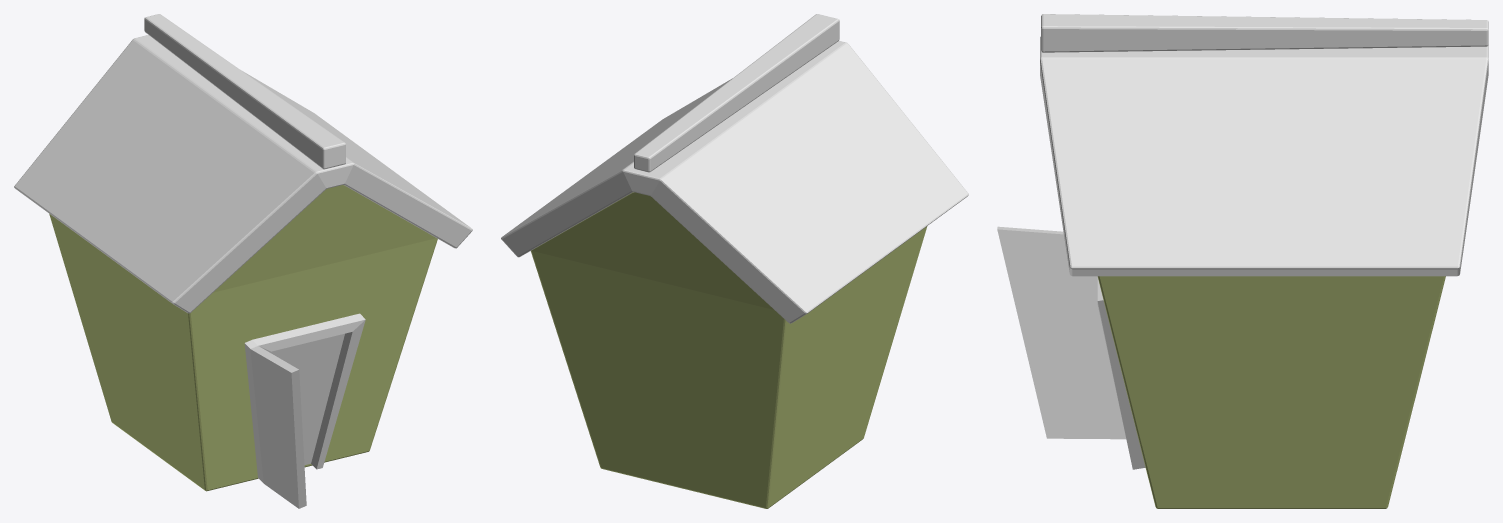
The model's file is 1house.fbx.
The picture shows the model from 3 angles, left to right: view 1: azimuth 30°, elevation 25°; view 2: azimuth 150°, elevation 25°; view 3: azimuth 270°, elevation 25°; orthographic projection. The views are drawn at different scales.
Visible parts, largest first — view 1: Plane.007, Plane.008, Plane.010, Plane.009, Plane.011; view 2: Plane.007, Plane.008, Plane.009; view 3: Plane.008, Plane.007, Plane.010, Plane.009.
Boxes of the visible parts, <box> form: Plane.007: <box>49,185,437,491</box>; Plane.008: <box>14,35,472,313</box>; Plane.010: <box>244,313,365,508</box>; Plane.009: <box>144,14,345,169</box>; Plane.011: <box>271,333,344,464</box>; Plane.007: <box>531,192,927,508</box>; Plane.008: <box>501,41,968,323</box>; Plane.009: <box>634,14,839,172</box>; Plane.008: <box>1040,36,1488,276</box>; Plane.007: <box>1097,276,1445,508</box>; Plane.010: <box>997,226,1145,469</box>; Plane.009: <box>1041,14,1488,52</box>.
Size of the model in its own units: 240 by 275 by 278.
